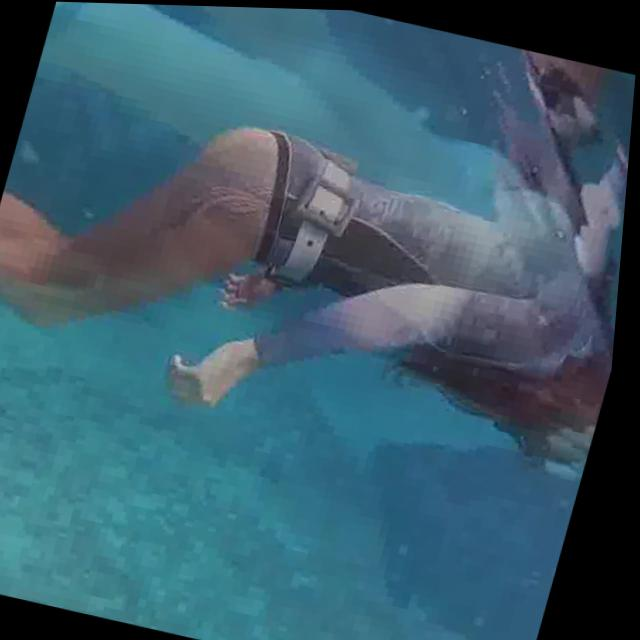human: (0, 62, 636, 504)
